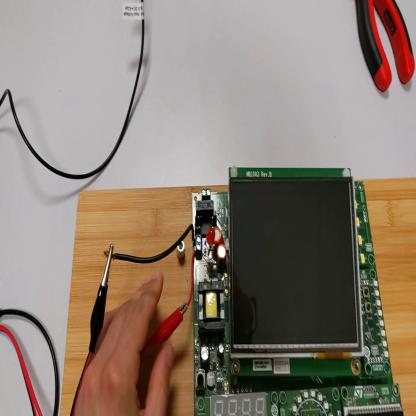hand: (75, 273, 171, 416)
low voltage board: (106, 153, 404, 415)
pliers: (355, 2, 415, 94)
working area: (61, 172, 415, 415)
